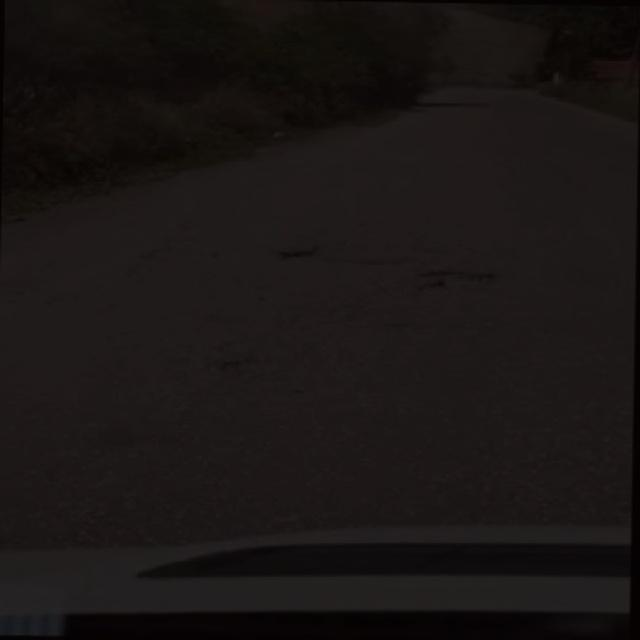Pothole: (413, 266, 496, 307), (273, 242, 323, 270)
